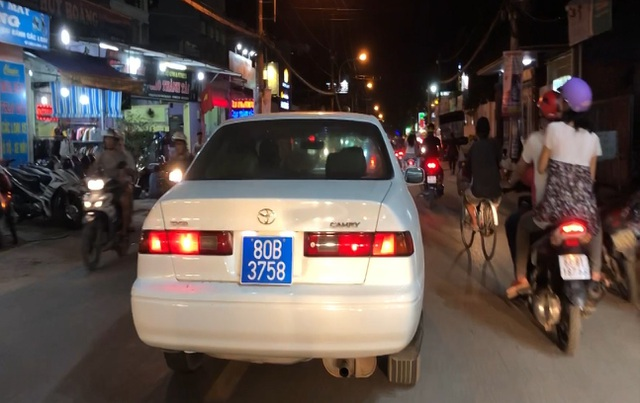plate: (238, 233, 294, 286)
